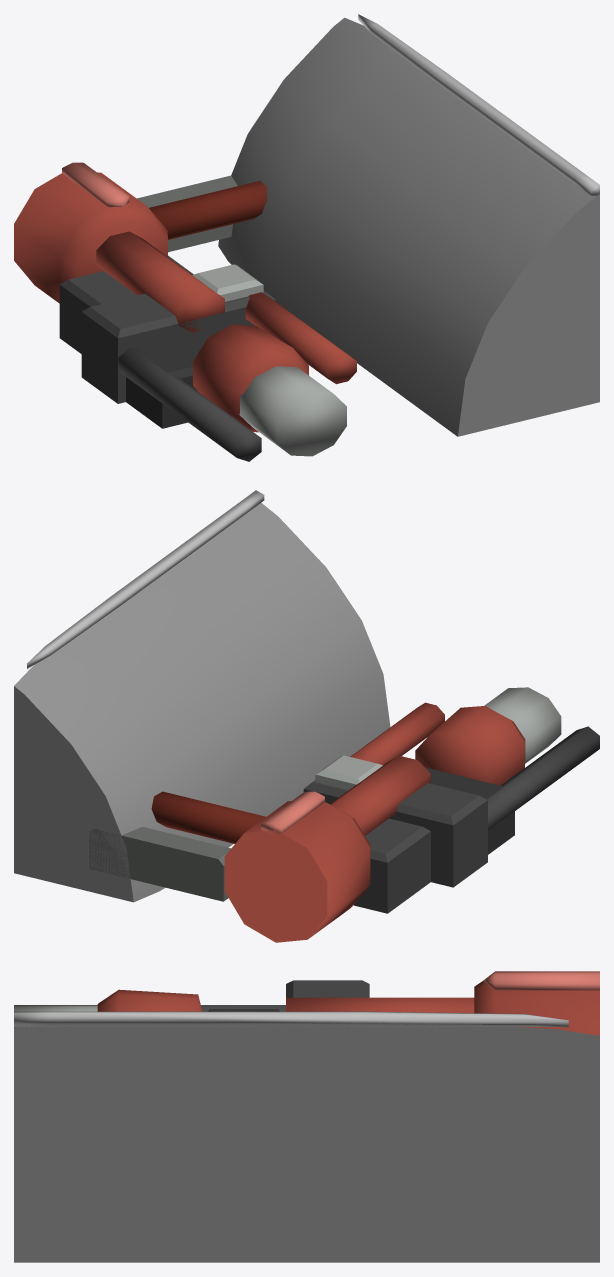
File: newshi-77.glb
3 renders of one model, top to bottom at view 1: azimuth 30°, elevation 25°; view 2: azimuth 150°, elevation 25°; view 3: azimuth 270°, elevation 25°, orthographic. The views are drawn at different scales.
Visible parts, largest first — view 1: newshi-77; view 2: newshi-77; view 3: newshi-77.
Boxes of the visible parts, bbox=[...] form: newshi-77: bbox=[14, 14, 599, 461]; newshi-77: bbox=[14, 490, 599, 942]; newshi-77: bbox=[14, 971, 599, 1262].
Size of the model in its own units: 1.92 by 1.13 by 2.33.
